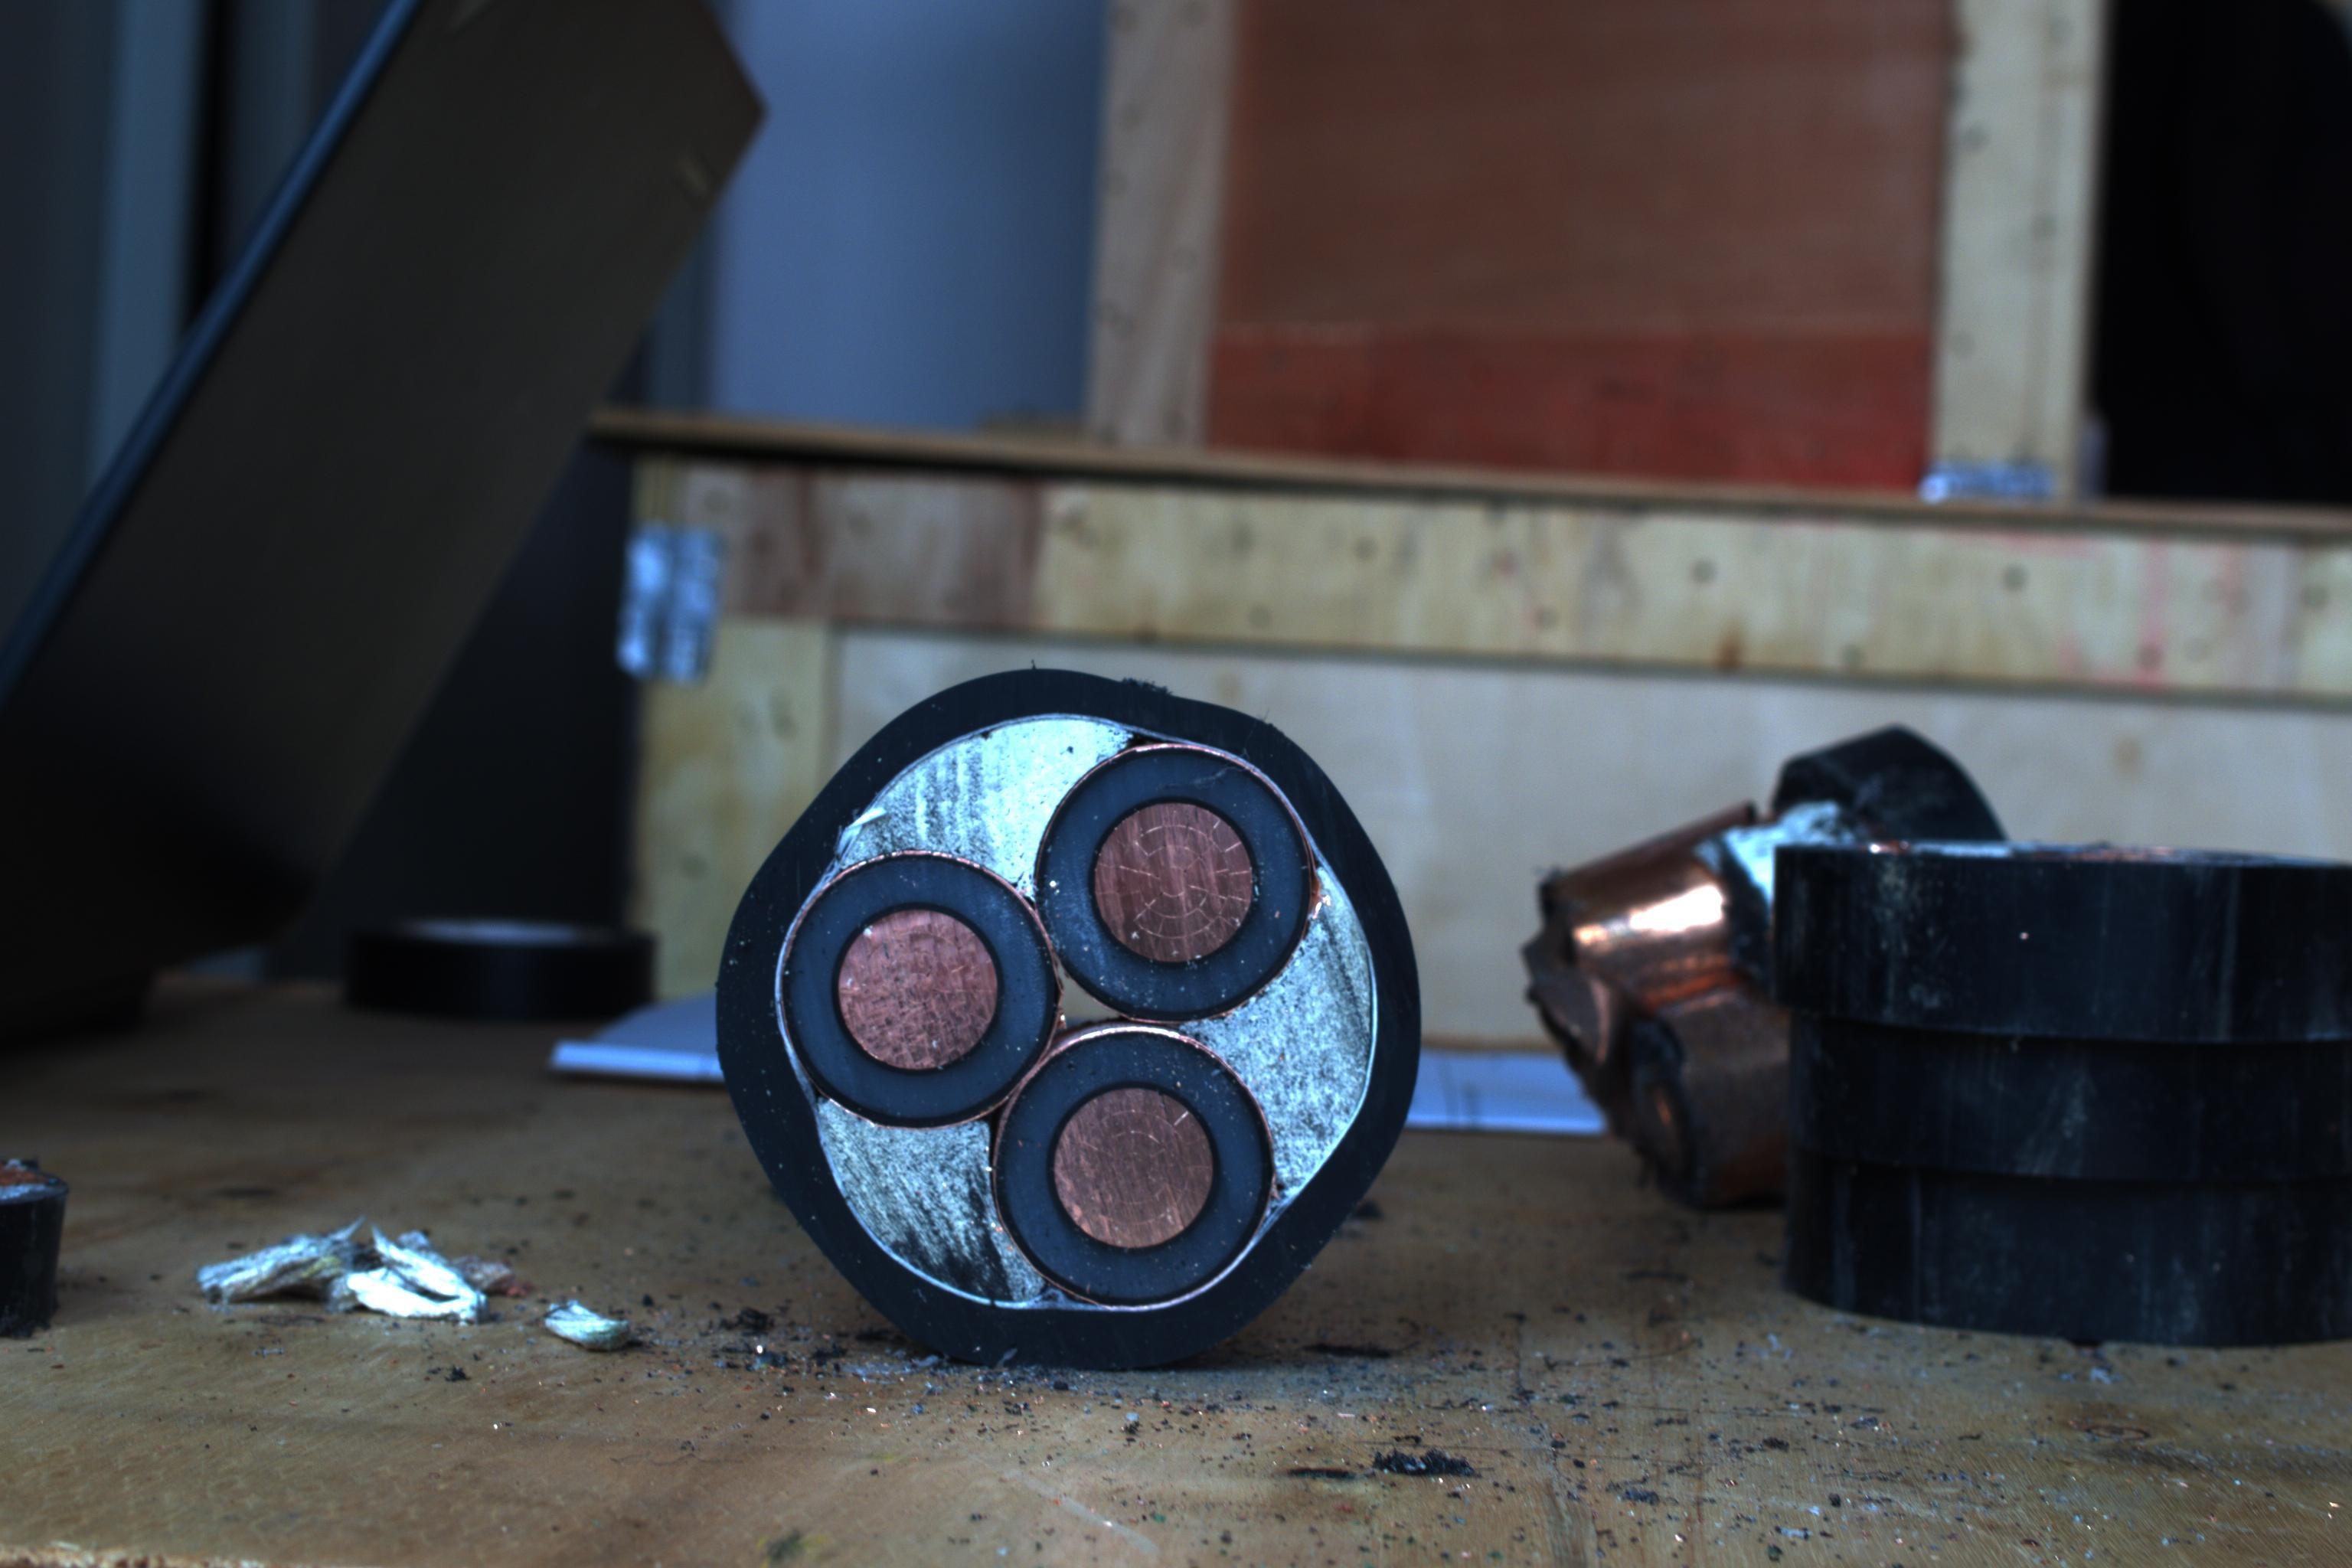ZA_YJV_8.7_10kV_3x240: (723, 686, 1398, 1354)
